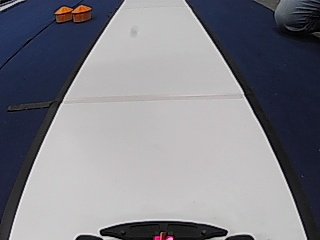granary: (53, 4, 72, 23), (72, 5, 92, 23)
